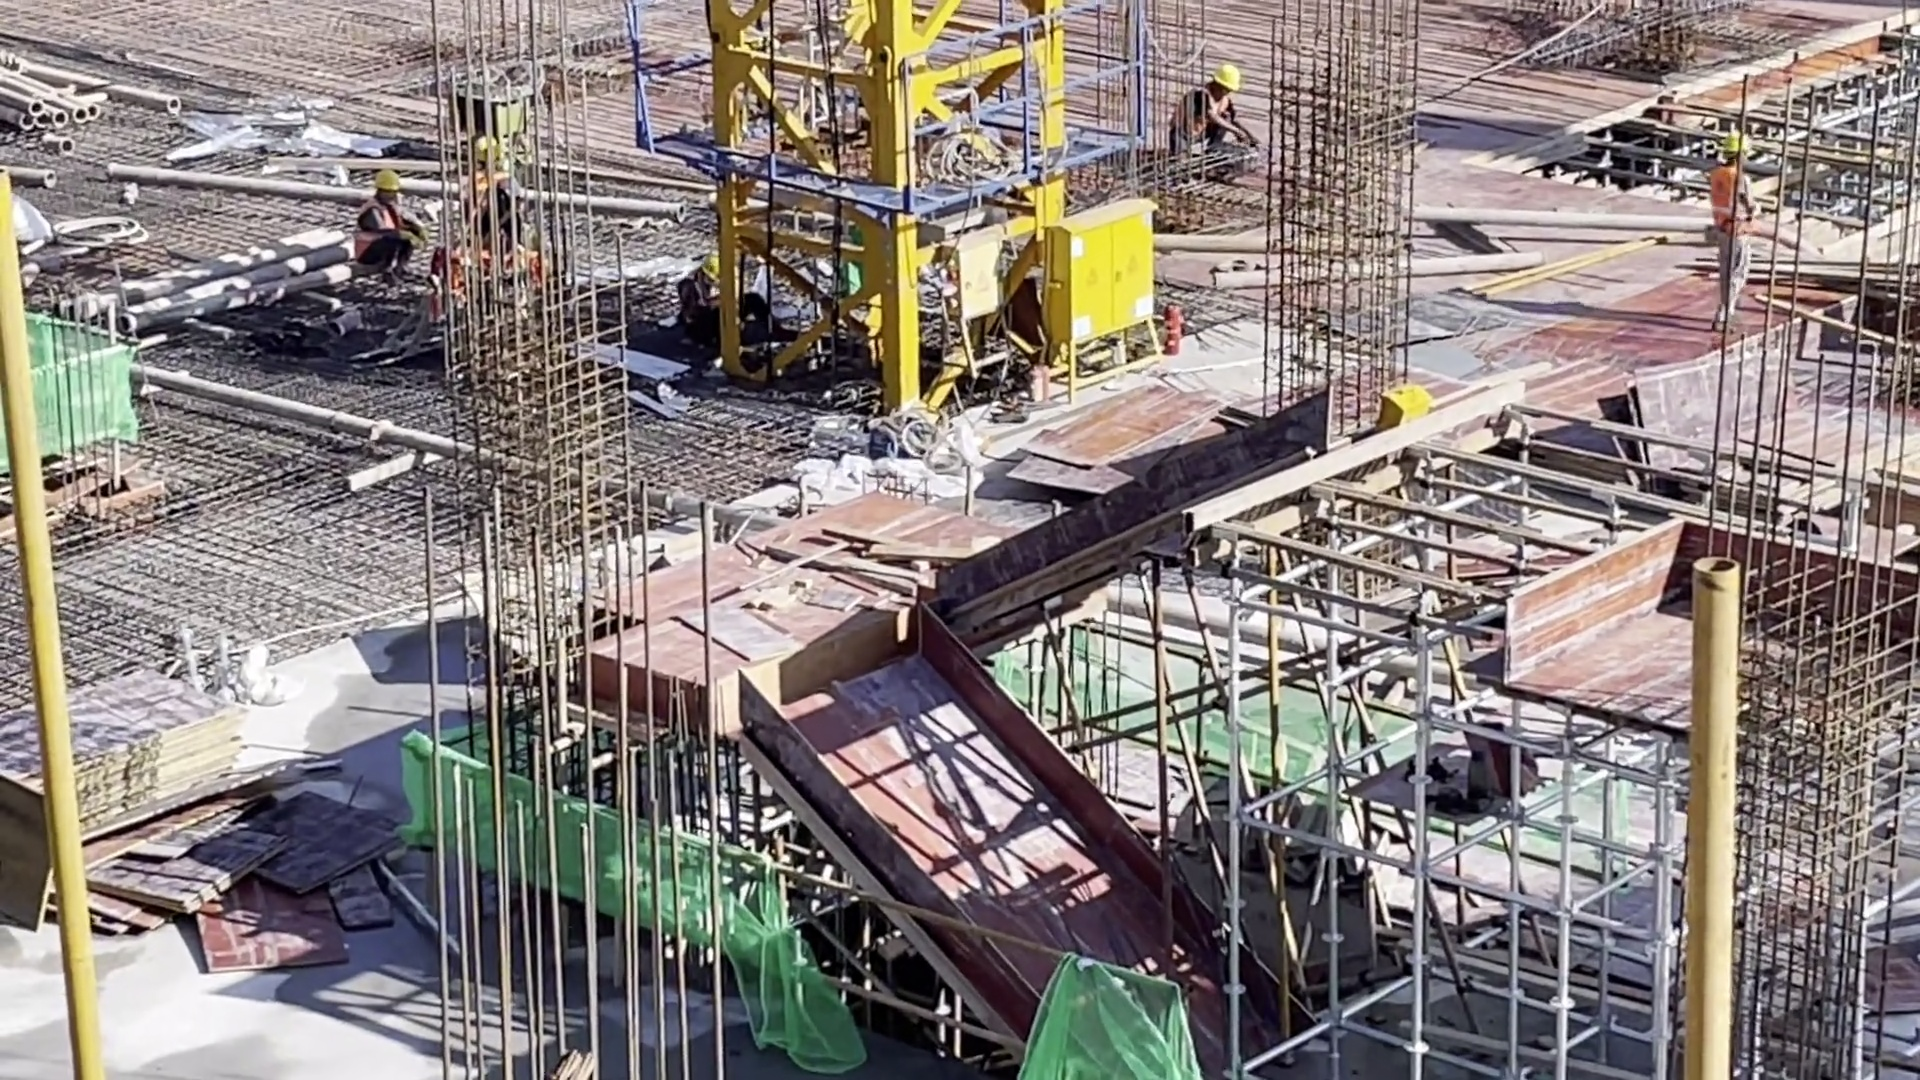helmet: (1207, 67, 1241, 101), (366, 171, 406, 199), (1720, 132, 1750, 157)
person: (1703, 133, 1761, 332), (349, 171, 434, 287), (1156, 68, 1252, 165), (678, 246, 722, 334)
vest: (1168, 91, 1236, 156), (1702, 167, 1750, 243), (358, 206, 400, 272)
